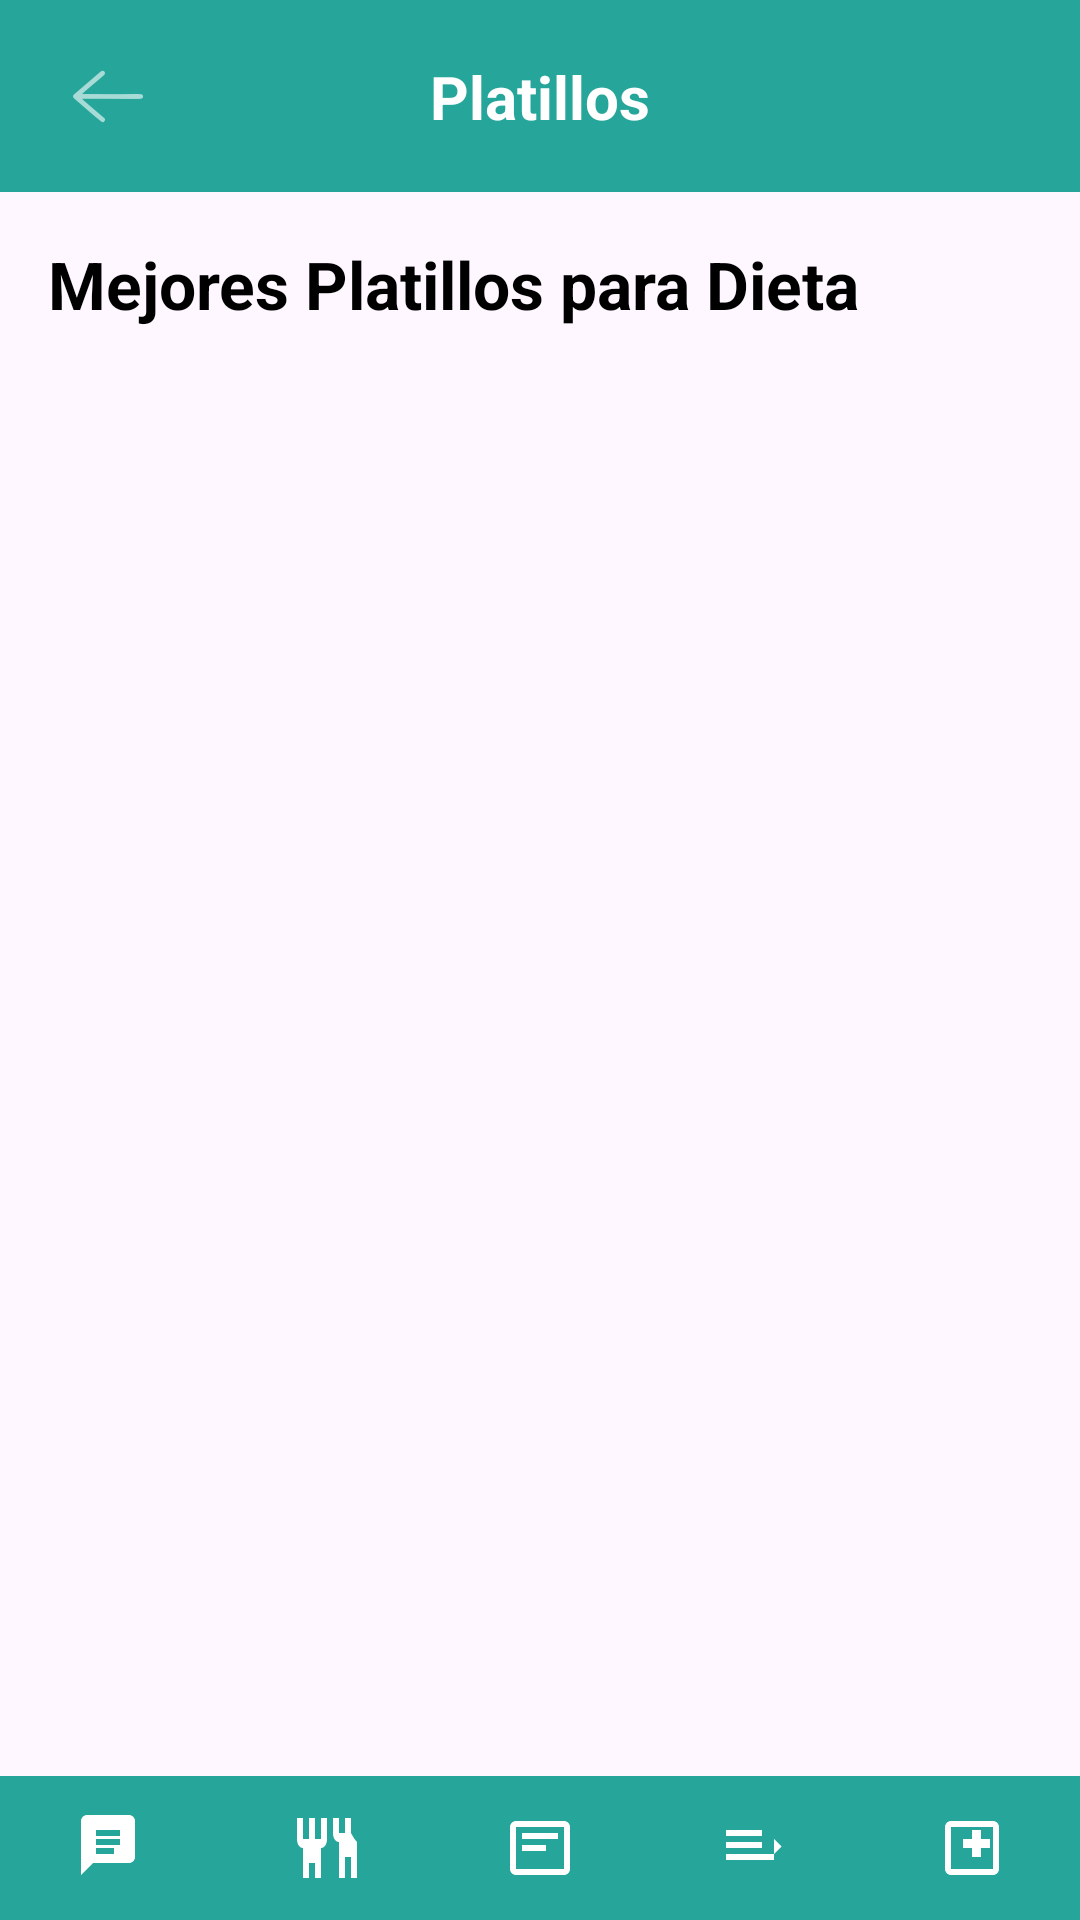

Screen size 1080*1920. Icon name, then its center in pixels as (x,y):
Botón para cerrar sesión y volver a Login: (108,96)
card: (540,1848)
comida: (327,1848)
lista: (754,1845)
